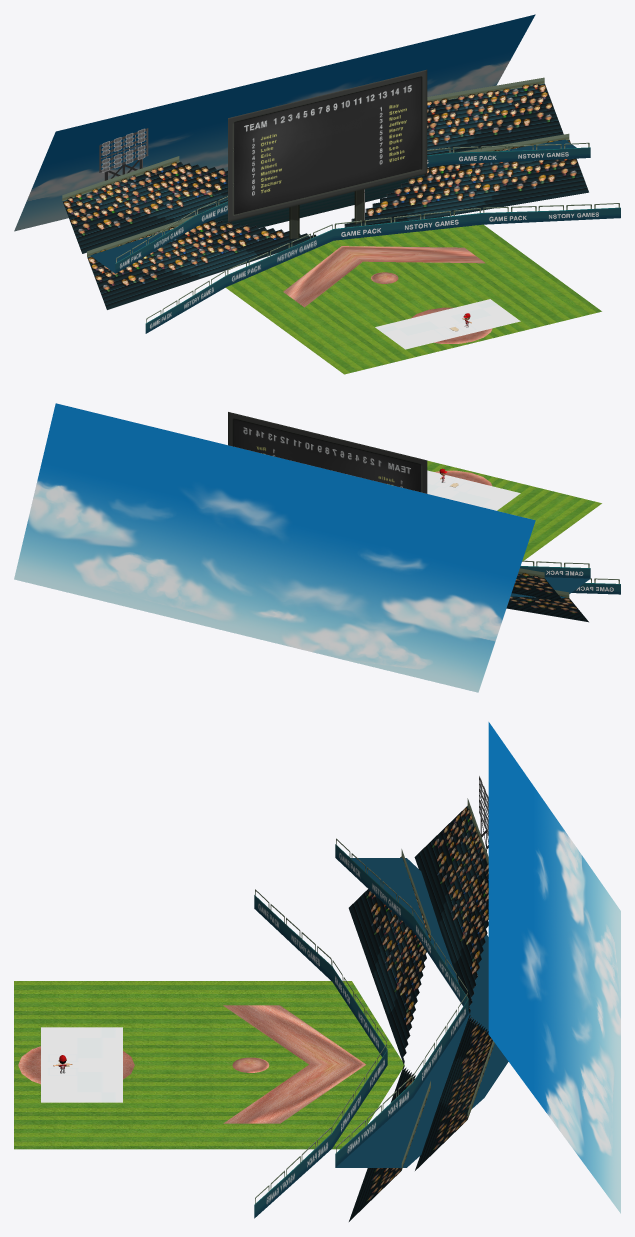
File: baseball_map.FBX
3 views of the same model, one above another, from view 1: azimuth 30°, elevation 25°; view 2: azimuth 150°, elevation 25°; view 3: azimuth 270°, elevation 25° (orthographic). The views are drawn at different scales.
Parts seen in each view (by area): view 1: stand, ground, sky, nstorygamesgamepack, nstorygamesgamepack01, sand03, line01, pan03, pan06, pan09, pan05, pan08 (+7 smaller); view 2: sky, ground, pan01, stand, pan03, pan02, line01, nstorygamesgamepack01, nstorygamesgamepack; view 3: ground, sky, stand, nstorygamesgamepack01, sand03, line01, nstorygamesgamepack, sand01.
Part boxes in pixels (left/top/right/bottom): stand: left=62, top=77, right=588, bottom=309; ground: left=225, top=224, right=601, bottom=374; sky: left=14, top=14, right=535, bottom=231; nstorygamesgamepack: left=145, top=203, right=620, bottom=333; nstorygamesgamepack01: left=90, top=139, right=590, bottom=273; sand03: left=283, top=246, right=485, bottom=307; line01: left=375, top=299, right=520, bottom=349; pan03: left=360, top=69, right=427, bottom=120; pan06: left=360, top=104, right=427, bottom=154; pan09: left=360, top=139, right=427, bottom=189; pan05: left=294, top=120, right=360, bottom=171; pan08: left=294, top=155, right=360, bottom=205; sky: left=14, top=403, right=535, bottom=692; ground: left=427, top=460, right=601, bottom=560; pan01: left=360, top=444, right=427, bottom=493; stand: left=506, top=568, right=588, bottom=622; pan03: left=228, top=412, right=294, bottom=461; pan02: left=294, top=428, right=360, bottom=477; line01: left=427, top=470, right=520, bottom=510; nstorygamesgamepack01: left=510, top=560, right=590, bottom=598; nstorygamesgamepack: left=571, top=578, right=620, bottom=594; ground: left=14, top=981, right=404, bottom=1149; sky: left=488, top=722, right=620, bottom=1213; stand: left=348, top=798, right=494, bottom=1221; nstorygamesgamepack01: left=335, top=838, right=508, bottom=1167; sand03: left=223, top=1005, right=365, bottom=1123; line01: left=41, top=1027, right=122, bottom=1102; nstorygamesgamepack: left=254, top=889, right=387, bottom=1218; sand01: left=18, top=1046, right=134, bottom=1084.
Size of the model in its own units: 1.92 by 0.541 by 1.56.
